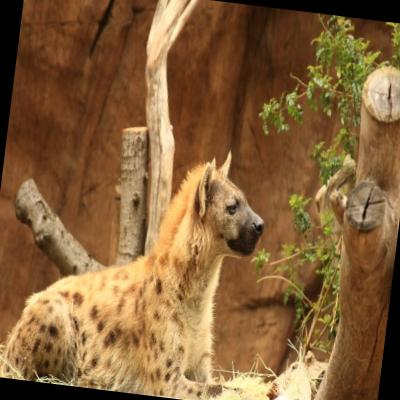hyenas: (0, 75, 312, 400)
